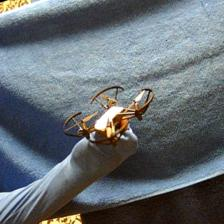drone: (62, 83, 155, 148)
